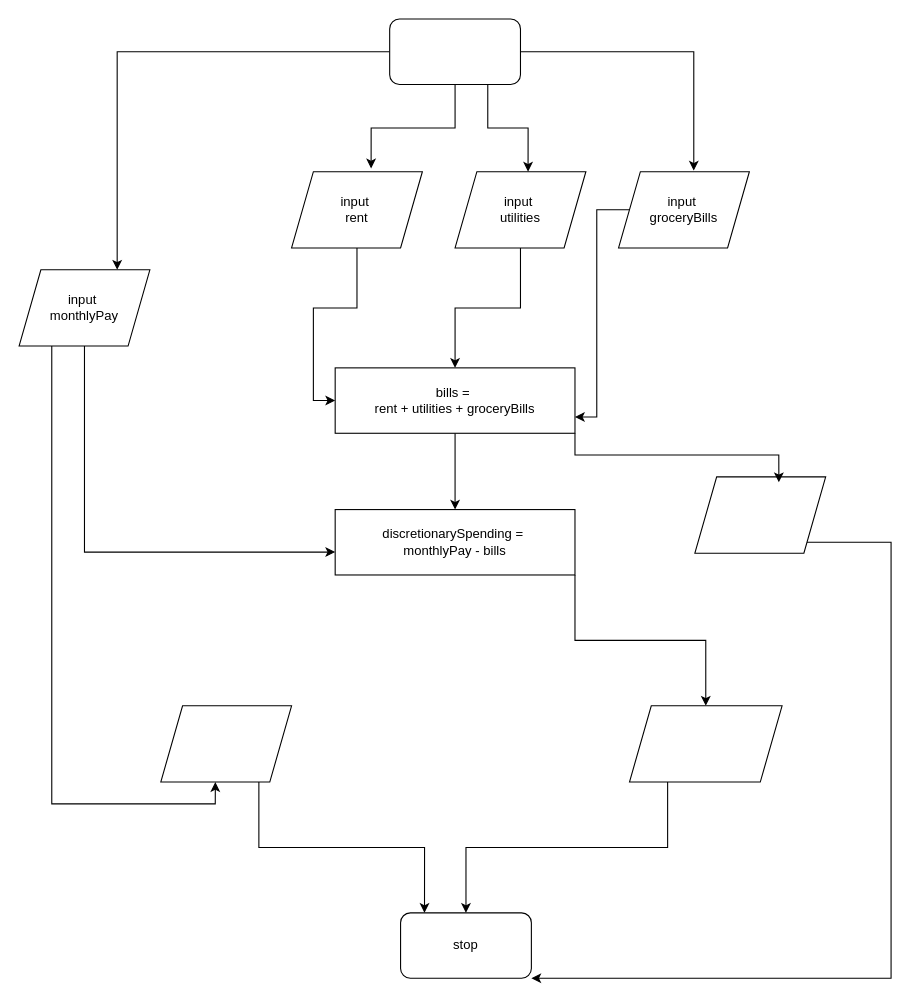
This 919x1006 diagram has some shape labels left out. The centre of each missing label's shape, as x and y in pixels:
"output bills" belongs at point (760, 514).
"output discretionarySpending" belongs at point (705, 743).
"output monthlyPay" belongs at point (226, 743).
"start" belongs at point (454, 51).
